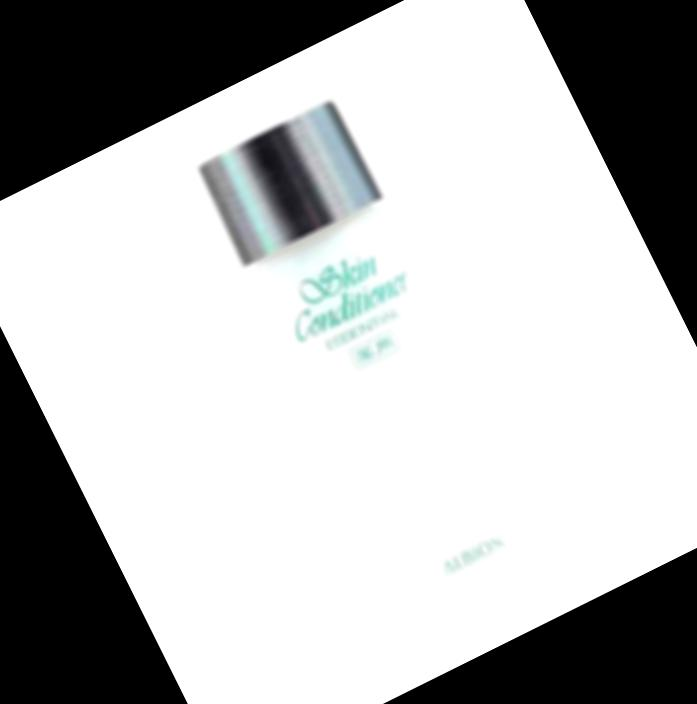cosmetic: (185, 93, 566, 635)
